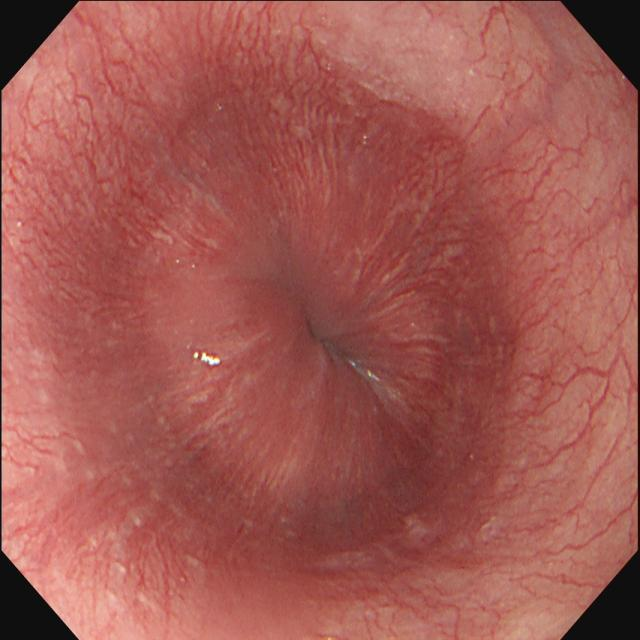I: (103, 67, 527, 575)
U: (193, 352, 224, 369)
